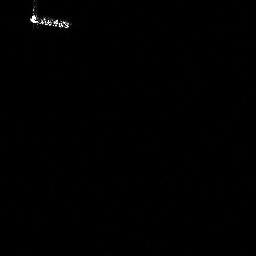ship: (25, 3, 73, 31)
